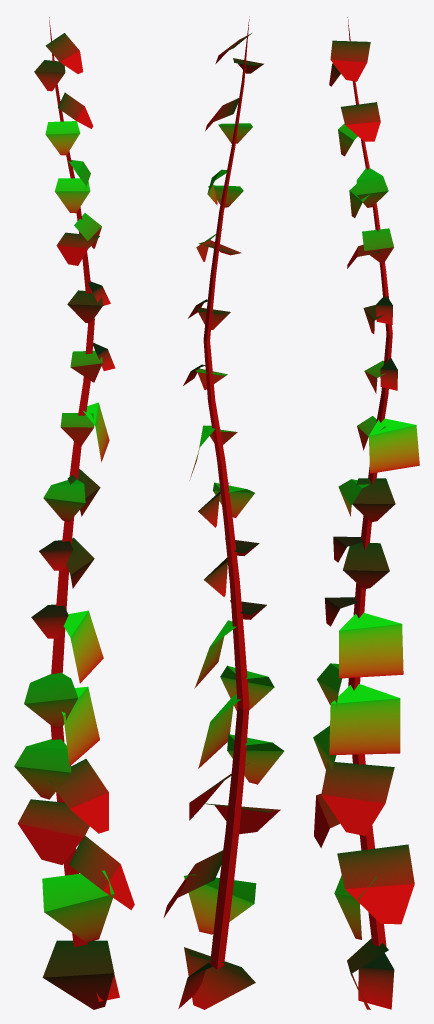
Rendered from Lierre2_LOD1.fbx.
3 views of the same model, side by side, from view 1: azimuth 30°, elevation 25°; view 2: azimuth 210°, elevation 25°; view 3: azimuth 330°, elevation 25° (orthographic).
Visible parts, largest first — view 1: _23ac_Var10_LOD2; view 2: _23ac_Var10_LOD2; view 3: _23ac_Var10_LOD2.
Part boxes in pixels (x1=…): _23ac_Var10_LOD2: x1=14, y1=17, x2=134, y2=1009; _23ac_Var10_LOD2: x1=163, y1=16, x2=284, y2=1009; _23ac_Var10_LOD2: x1=313, y1=17, x2=419, y2=1009.
Bounding box in the file's own units: 6.9 × 62.25 × 5.07.
